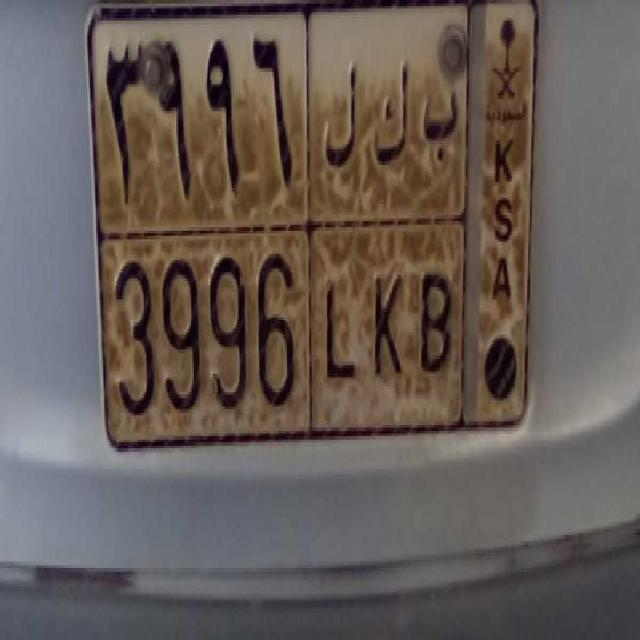license_plate: (97, 230, 465, 442)
